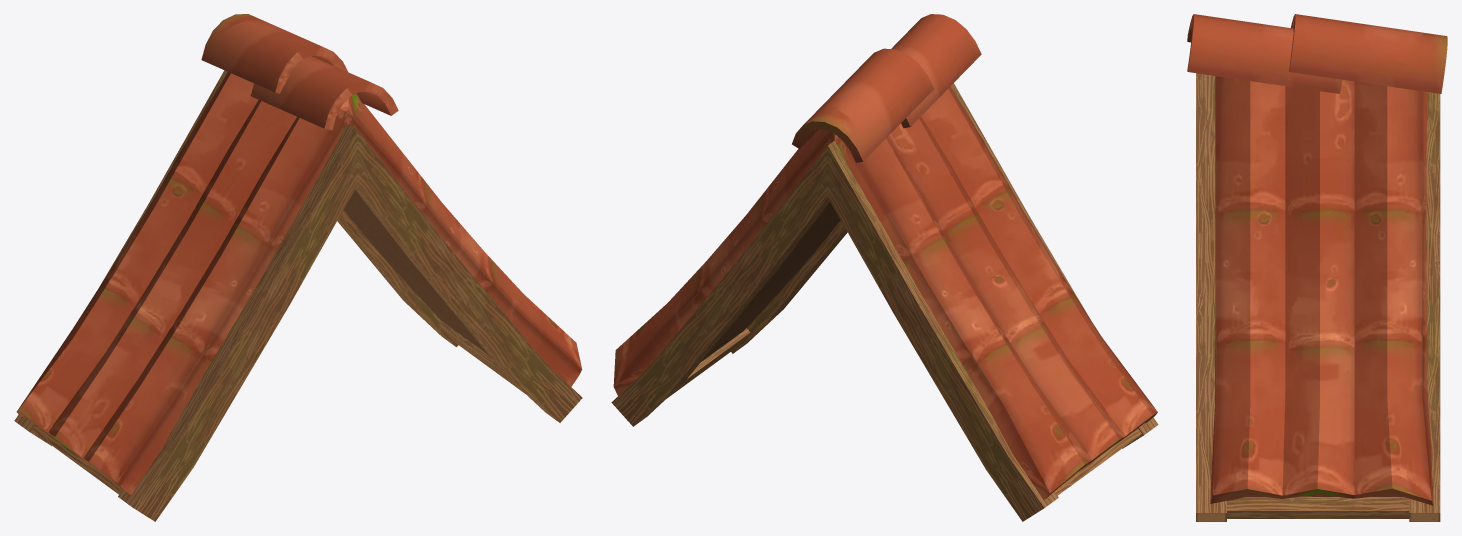
The model's file is roof_roundtile_2x1_long.glb.
3 views of the same model, side by side, from view 1: azimuth 30°, elevation 25°; view 2: azimuth 150°, elevation 25°; view 3: azimuth 270°, elevation 25° (orthographic). The views are drawn at different scales.
Size of the model in its own units: 4.35 by 3.33 by 1.95.
2 materials, 2 textured.
